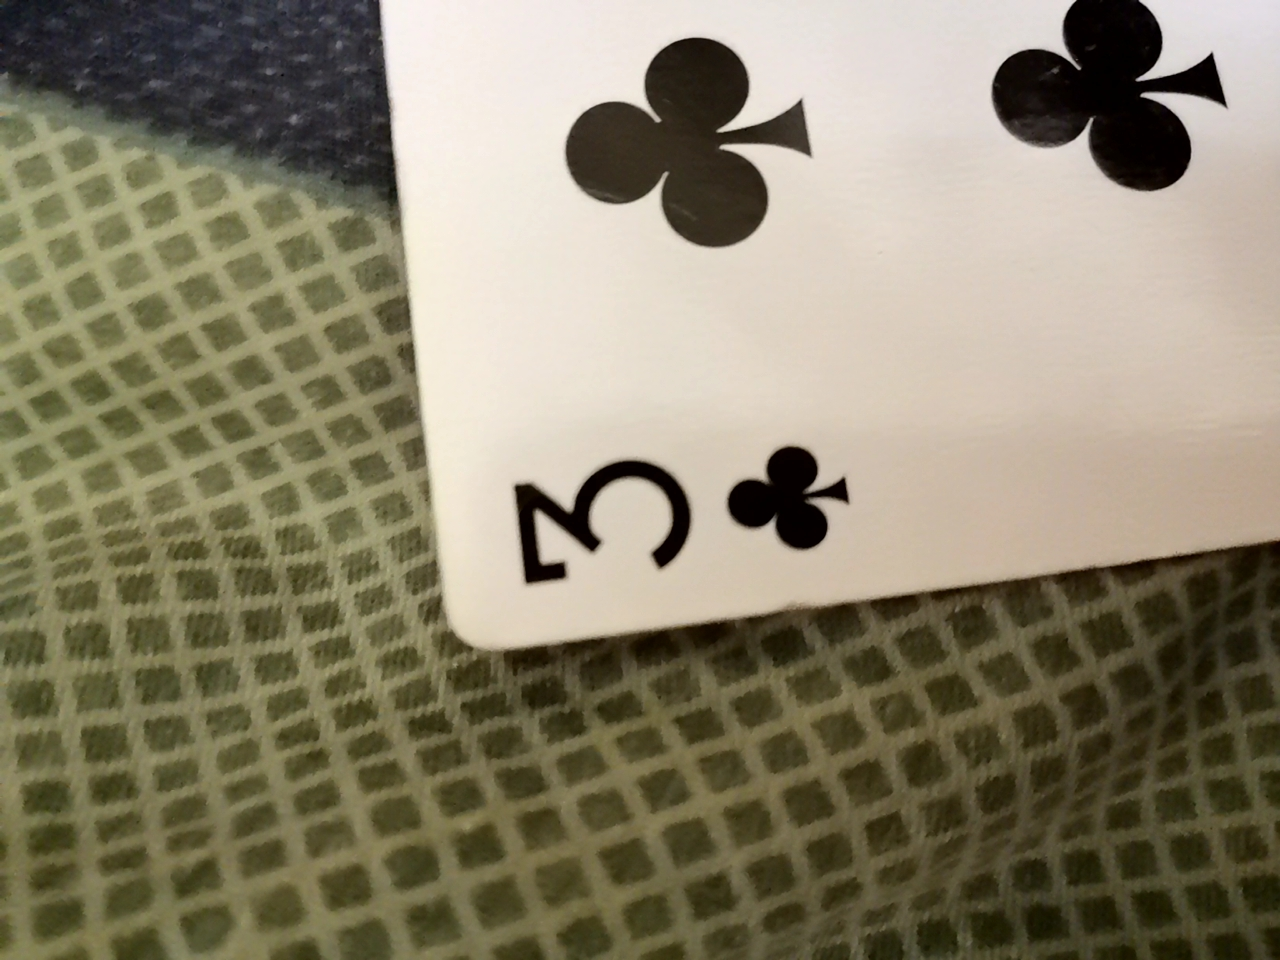mh 3: (344, 6, 1278, 655)
